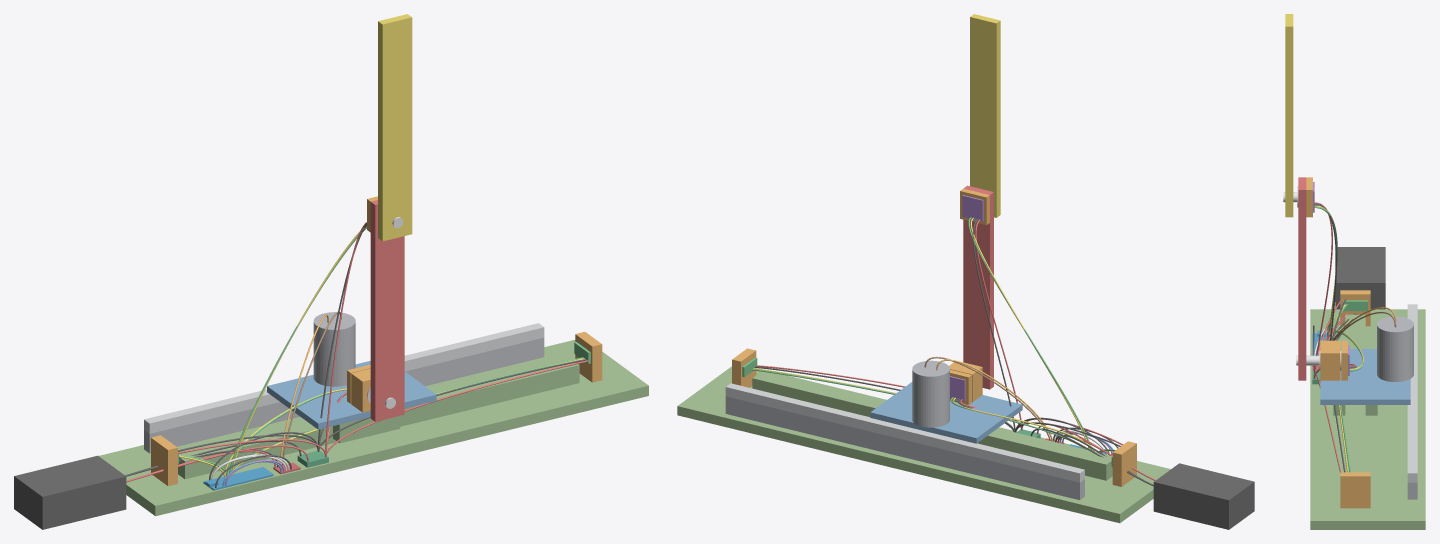
File: design.glb
3 views of the same model, side by side, from view 1: azimuth 30°, elevation 25°; view 2: azimuth 150°, elevation 25°; view 3: azimuth 270°, elevation 25° (orthographic). The views are drawn at different scales.
Parts seen in each view (by area): view 1: base-plate, arm-upper, rail, arm-lower, psu, riser, rack, cart, motor, tof-bracket-left, block, tof-bracket-right (+2 smaller); view 2: base-plate, riser, arm-upper, rail, rack, psu, arm-lower, cart, motor, tof-bracket-left; view 3: base-plate, cart, psu, motor, rail, arm-lower, arm-upper, rack, tof-bracket-right, pivot, tof-bracket-left, w-enc-elbow-3v3 (+7 smaller).
Part boxes in pixels (x1,y1,x2,y2): base-plate: [99, 340, 648, 516]; arm-upper: [378, 14, 412, 241]; rail: [178, 357, 579, 479]; arm-lower: [370, 200, 404, 421]; psu: [14, 455, 126, 529]; riser: [144, 337, 544, 453]; rack: [144, 323, 544, 433]; cart: [267, 361, 436, 429]; motor: [313, 312, 355, 386]; tof-bracket-left: [151, 435, 177, 485]; block: [333, 416, 400, 443]; tof-bracket-right: [575, 332, 602, 382]; base-plate: [677, 366, 1170, 523]; riser: [725, 396, 1084, 500]; arm-upper: [970, 14, 1000, 217]; rail: [752, 371, 1112, 480]; rack: [725, 383, 1084, 482]; psu: [1153, 463, 1254, 529]; arm-lower: [963, 185, 993, 389]; cart: [870, 382, 1022, 443]; motor: [912, 360, 949, 427]; tof-bracket-left: [1112, 441, 1136, 486]; base-plate: [1310, 309, 1425, 529]; cart: [1320, 349, 1410, 404]; psu: [1335, 247, 1385, 309]; motor: [1377, 316, 1413, 381]; rail: [1345, 314, 1365, 472]; arm-lower: [1298, 177, 1306, 380]; arm-upper: [1285, 14, 1293, 217]; rack: [1407, 304, 1417, 482]; tof-bracket-right: [1340, 472, 1370, 508]; pivot: [1320, 340, 1340, 380]; tof-bracket-left: [1340, 290, 1370, 326]; w-enc-elbow-3v3: [1313, 202, 1332, 375].
Bounding box in the file's own units: 0.6 × 0.436 × 0.142.
